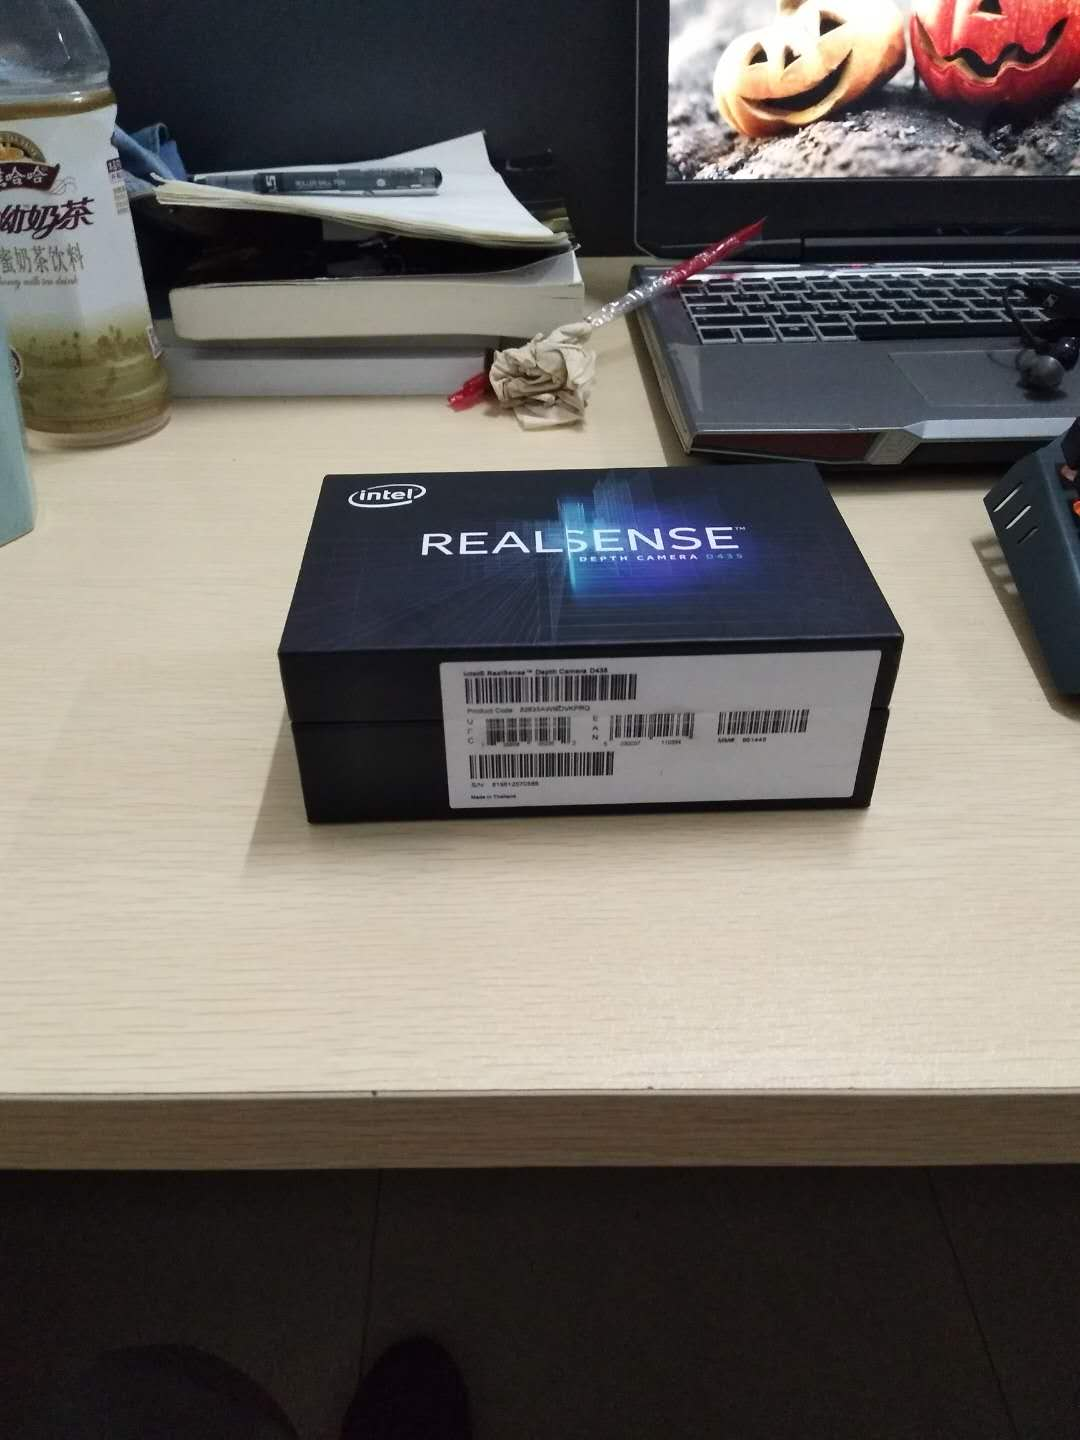box: (238, 463, 923, 842)
